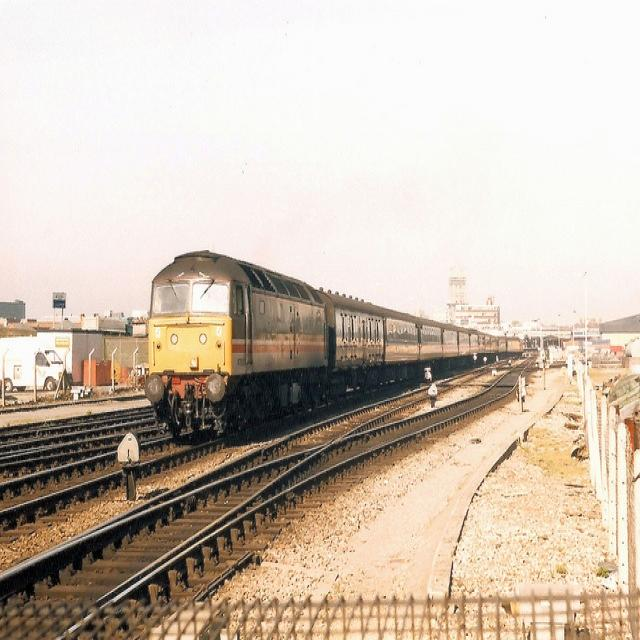truck: (0, 344, 67, 394)
